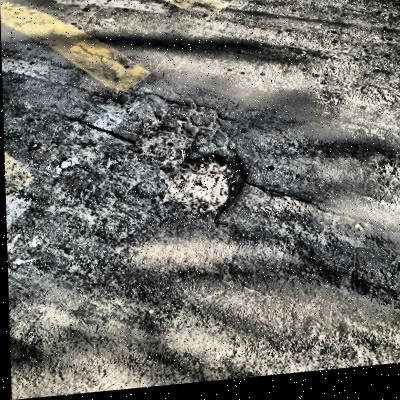pothole: (156, 150, 249, 224)
